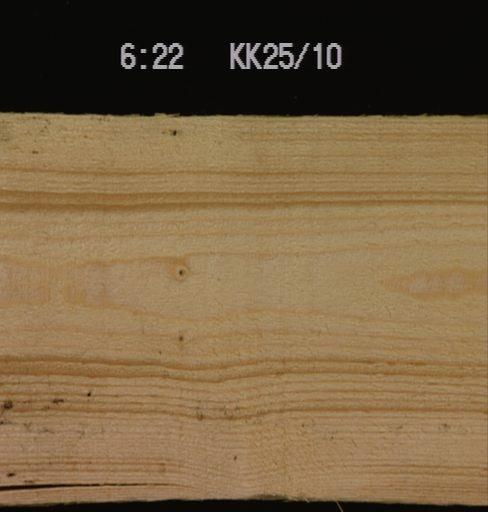small_knot: (172, 259, 190, 283), (166, 122, 181, 141), (172, 329, 187, 344)
split: (0, 473, 195, 494)
wave: (244, 485, 321, 501)
